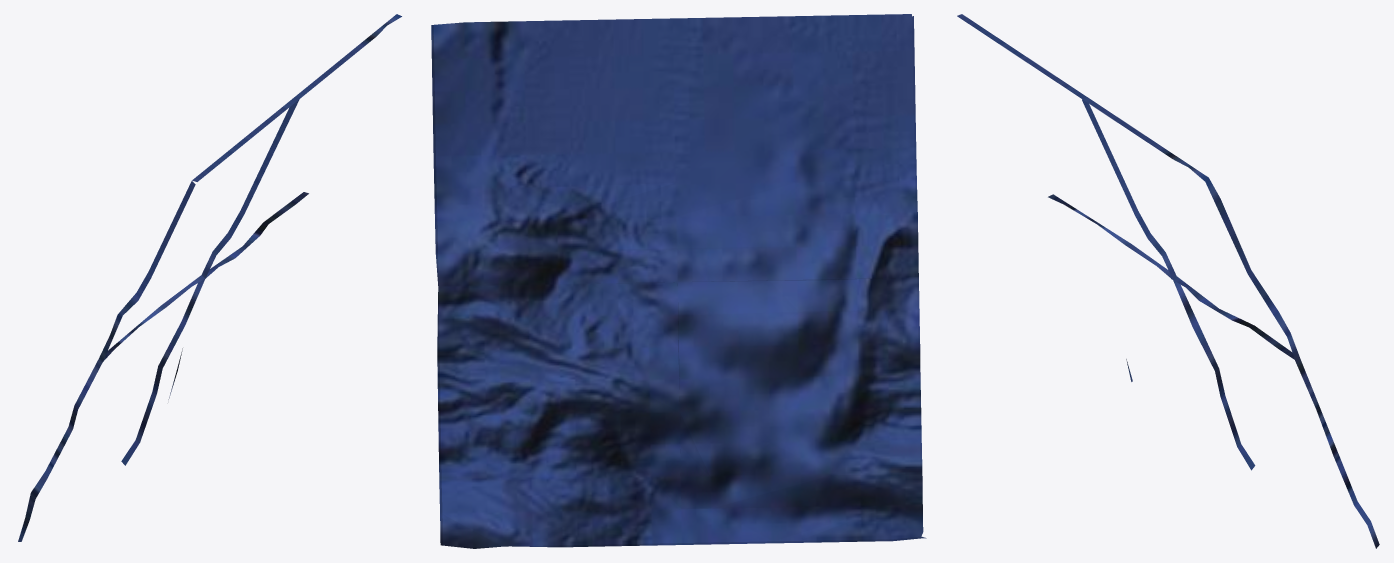
3 views of the same model, side by side, from view 1: azimuth 30°, elevation 25°; view 2: azimuth 150°, elevation 25°; view 3: azimuth 270°, elevation 25° (orthographic). The views are drawn at different scales.
Bounding box in the file's own units: 39602 × 36222 × 33120.
Materials: 1 (1 with a texture image).
